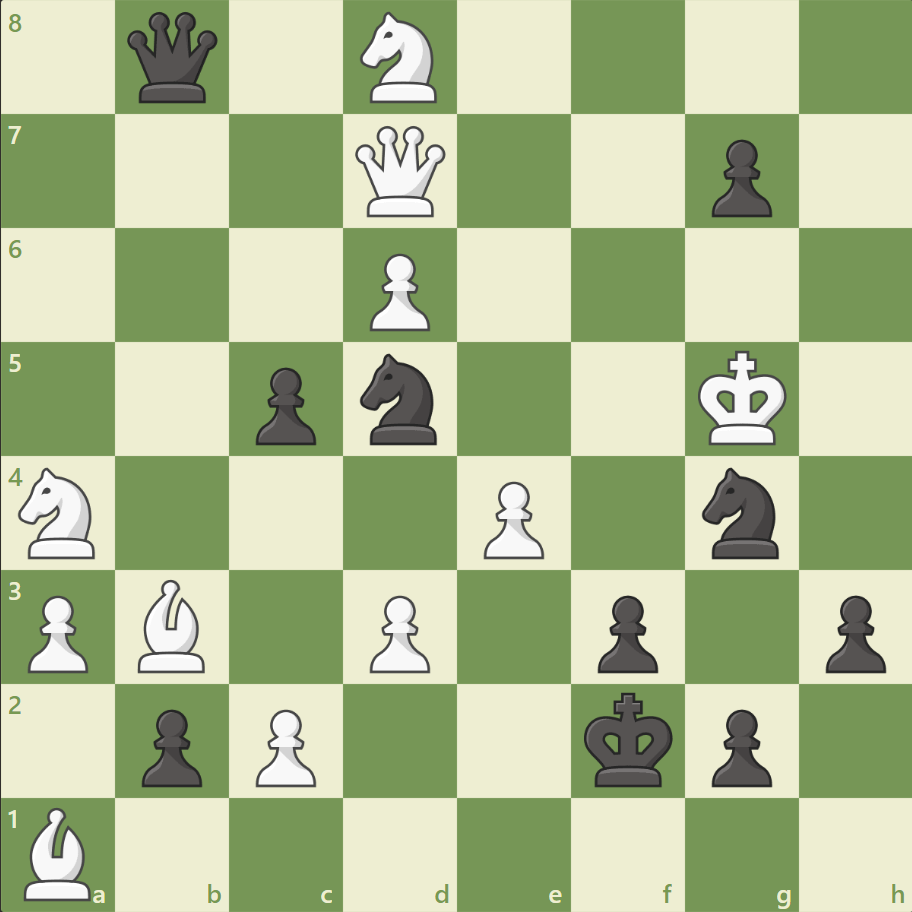B: (17, 801, 101, 904), (131, 574, 215, 676)
K: (692, 344, 792, 452)
N: (351, 7, 449, 110), (11, 461, 108, 564)
P: (474, 473, 549, 564), (20, 586, 95, 677), (247, 700, 322, 791), (361, 246, 435, 337), (361, 586, 435, 677)
Q: (351, 122, 450, 222)
k: (579, 685, 679, 793)
n: (351, 348, 449, 450), (692, 461, 789, 564)
p: (701, 132, 776, 223), (247, 359, 322, 450), (133, 700, 208, 791), (701, 700, 776, 791), (588, 586, 662, 677), (815, 586, 889, 677)
q: (124, 9, 223, 108)
